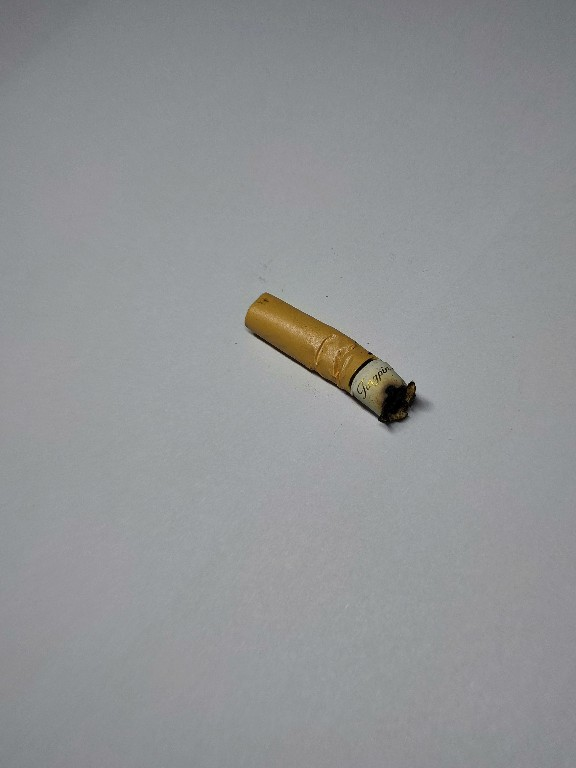cigarette: (243, 289, 420, 429)
